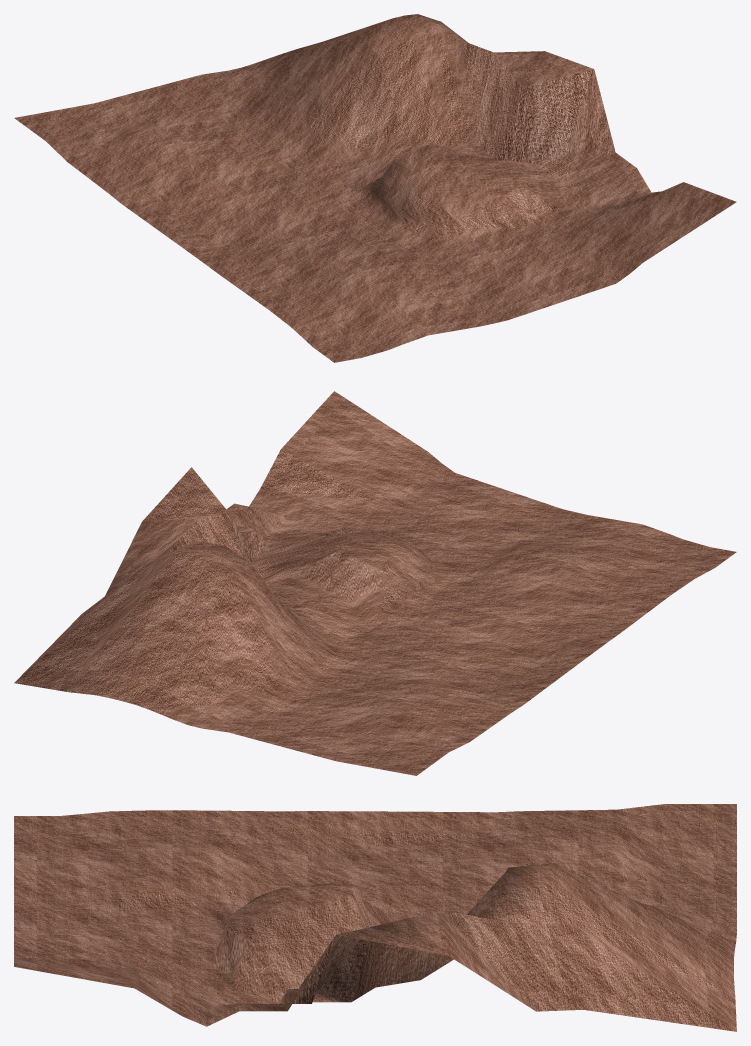
The model's file is terrain_mars 1.fbx.
3 views of the same model, one above another, from view 1: azimuth 30°, elevation 25°; view 2: azimuth 150°, elevation 25°; view 3: azimuth 270°, elevation 25° (orthographic). The views are drawn at different scales.
Parts seen in each view (by area): view 1: terrain_mars; view 2: terrain_mars; view 3: terrain_mars.
Boxes of the visible parts, <box> form: terrain_mars: <box>14,14,736,362</box>; terrain_mars: <box>14,391,736,775</box>; terrain_mars: <box>14,804,736,1031</box>.
Size of the model in its own units: 59.71 by 14.95 by 82.26.
1 material, 1 textured.
